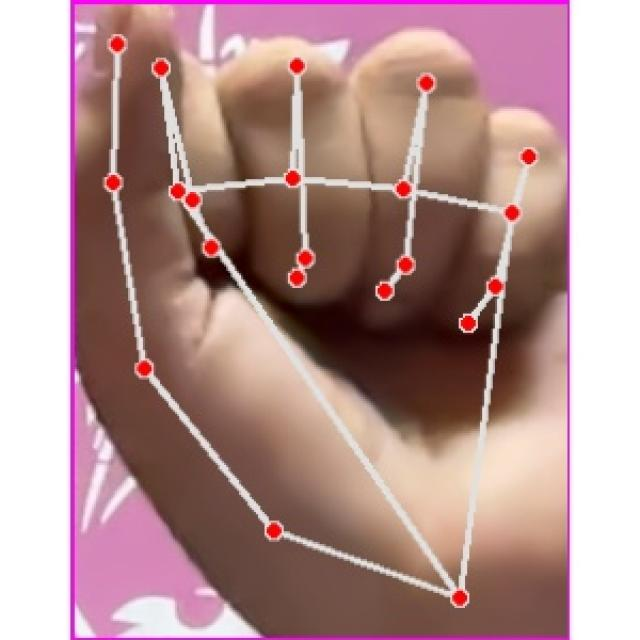A: (75, 5, 571, 639)
